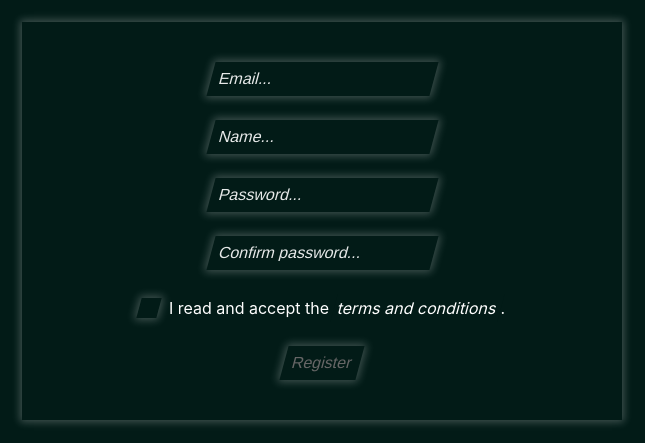
RegistrationForm component › Test actions › should the Register button change back to disabled after terms and conditions are unclicked
The width and height of the screenshot is (645, 443).
Step 1. Type "email@email.com" into the field with placeholder "Email..." → x=322, y=79, box [206,62,438,96]
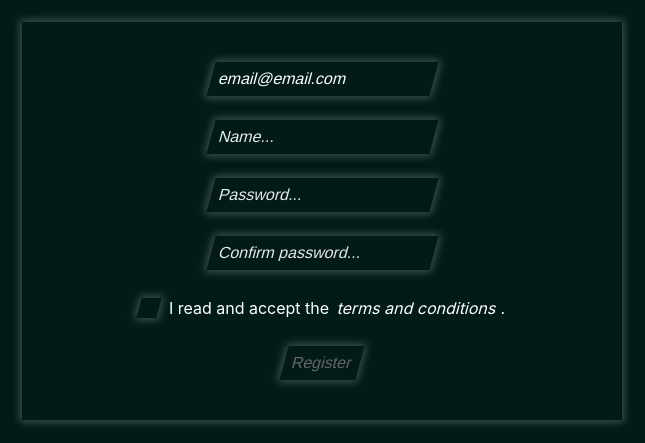
Step 2. Type "FirstName LastName" into the field with placeholder "Name..." → x=322, y=137, box [206,120,438,154]
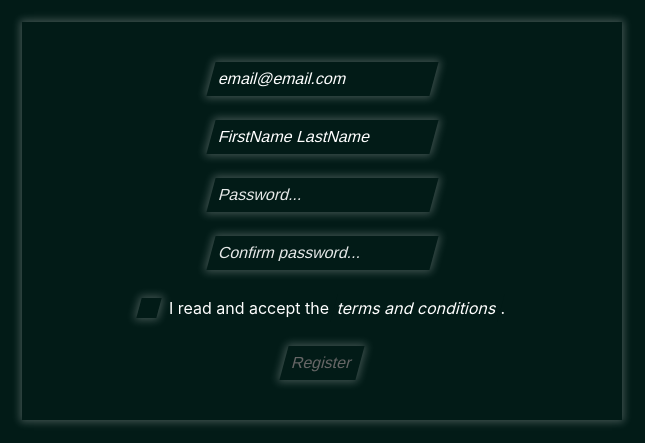
Step 3. Type "Abcd1234" into the password field with placeholder "Password..." → x=322, y=195, box [206,178,438,212]
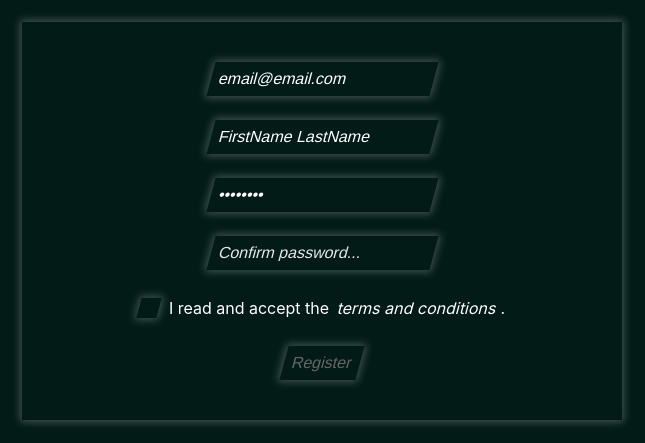
Step 4. Type "Abcd1234" into the password field with placeholder "Confirm password..." → x=322, y=253, box [206,236,438,270]
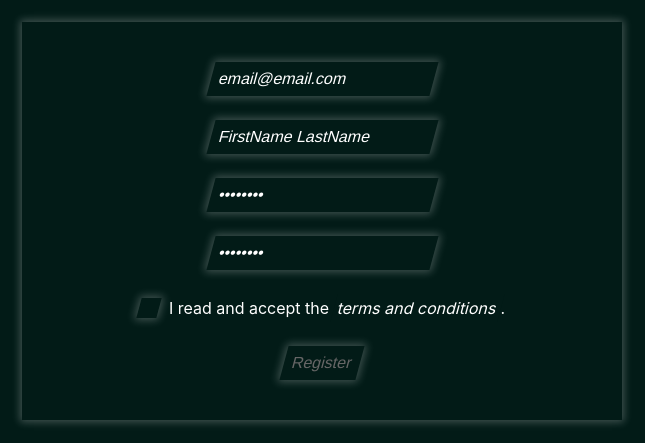
Step 5. Click the checkbox → x=321, y=308, box [136,294,505,322]
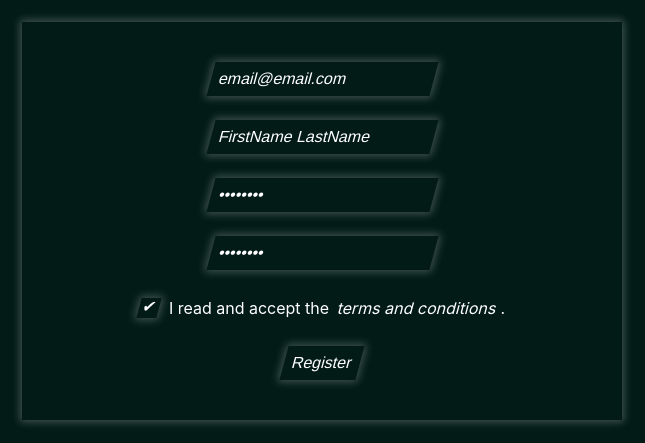
Step 6. Click the checkbox → x=321, y=308, box [136,294,505,322]
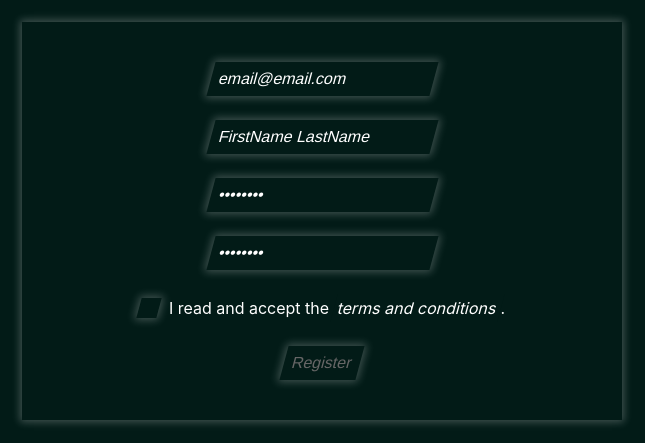
Expected: the button "Register" is disabled, [280,346,364,380]
